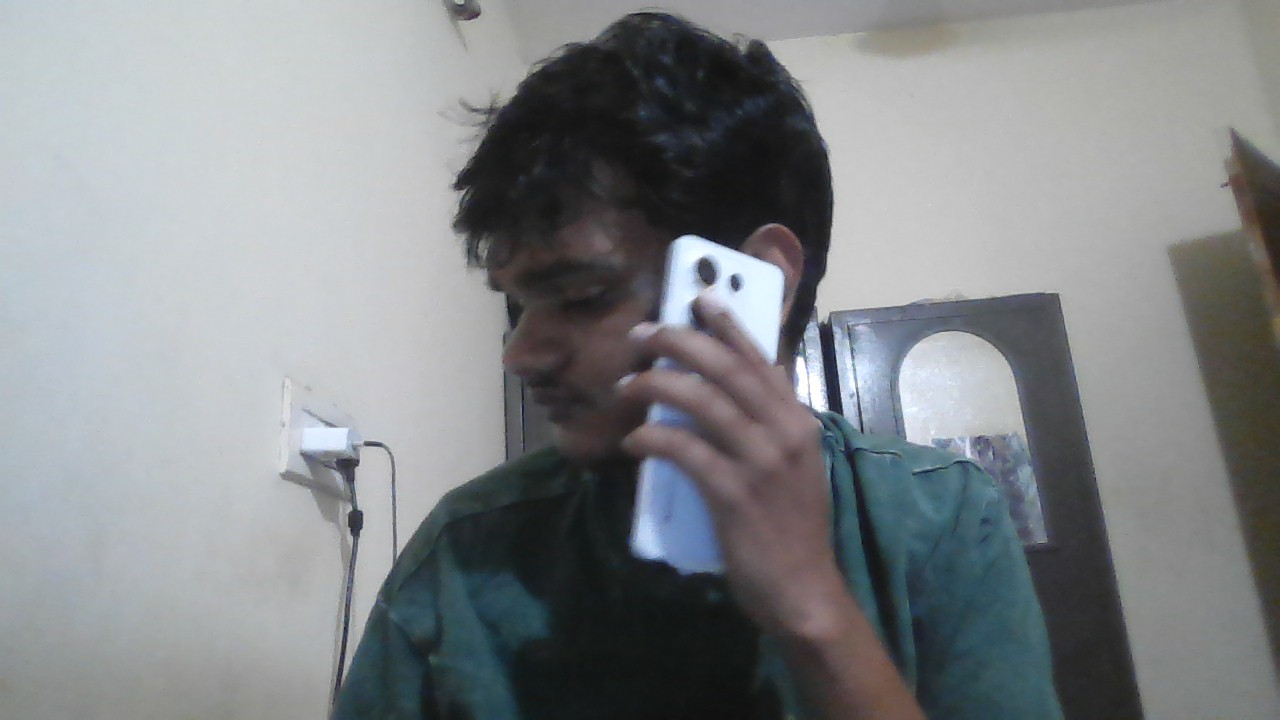phone: (661, 246, 786, 351)
